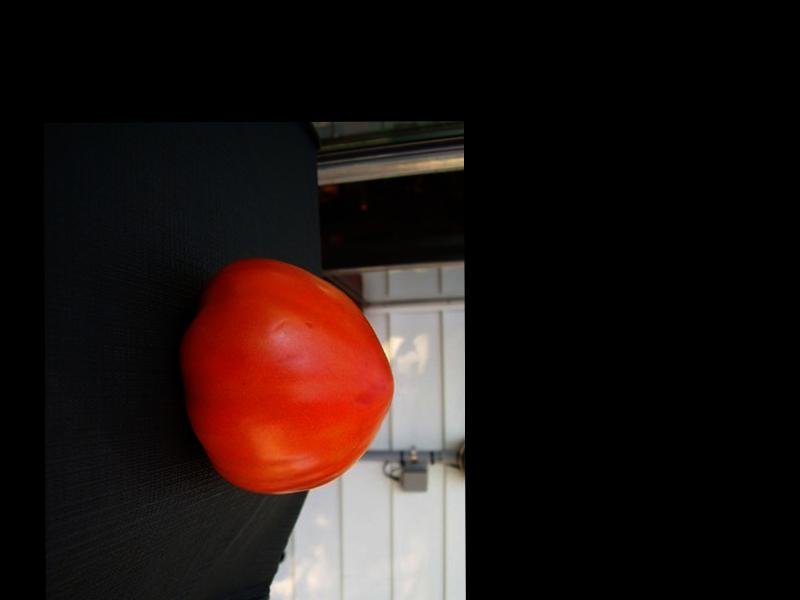Tomato: (180, 257, 395, 494)
